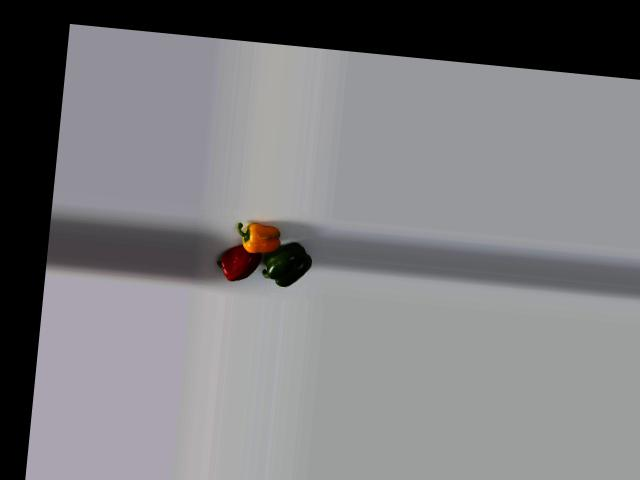bell_pepper: (234, 217, 282, 261)
